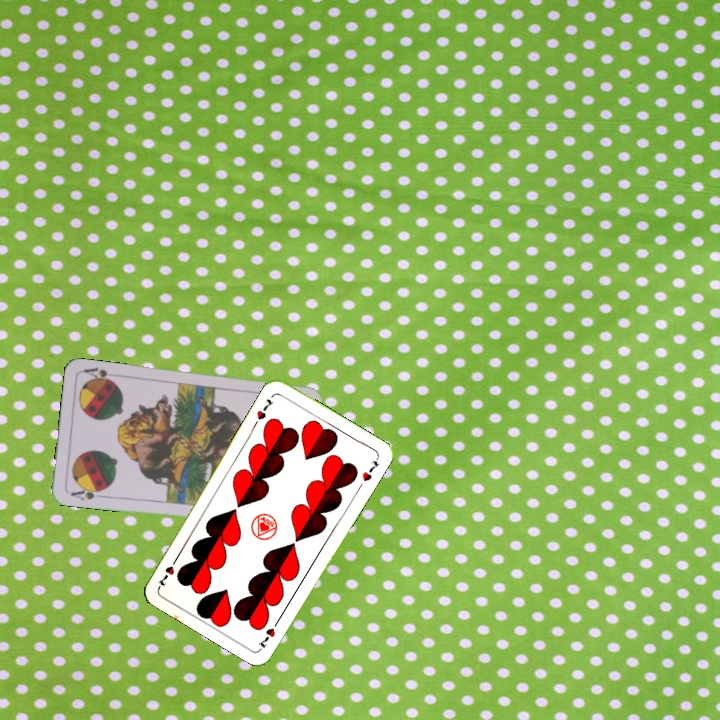H7: (254, 615, 282, 652), (252, 395, 276, 422)
SA: (67, 483, 106, 502)
